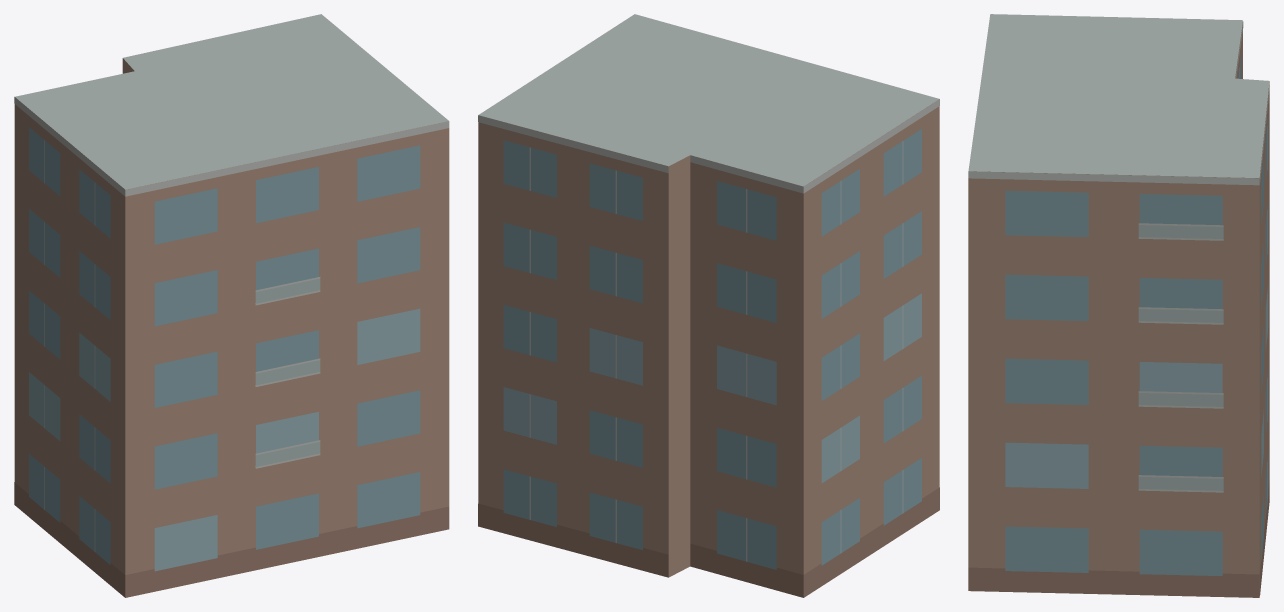
The model's file is survey-upis-32754113.glb.
3 renders of one model, left to right at view 1: azimuth 30°, elevation 25°; view 2: azimuth 150°, elevation 25°; view 3: azimuth 270°, elevation 25°, orthographic. The views are drawn at different scales.
Visible parts, largest first — view 1: survey-upis-32754113.tmp; view 2: survey-upis-32754113.tmp; view 3: survey-upis-32754113.tmp.
Part boxes in pixels (box(x1,y1,x2,y2)): survey-upis-32754113.tmp: box(14, 14, 449, 597); survey-upis-32754113.tmp: box(478, 14, 939, 597); survey-upis-32754113.tmp: box(968, 14, 1269, 597).
Bounding box in the file's own units: 12 × 14.3 × 9.31.
